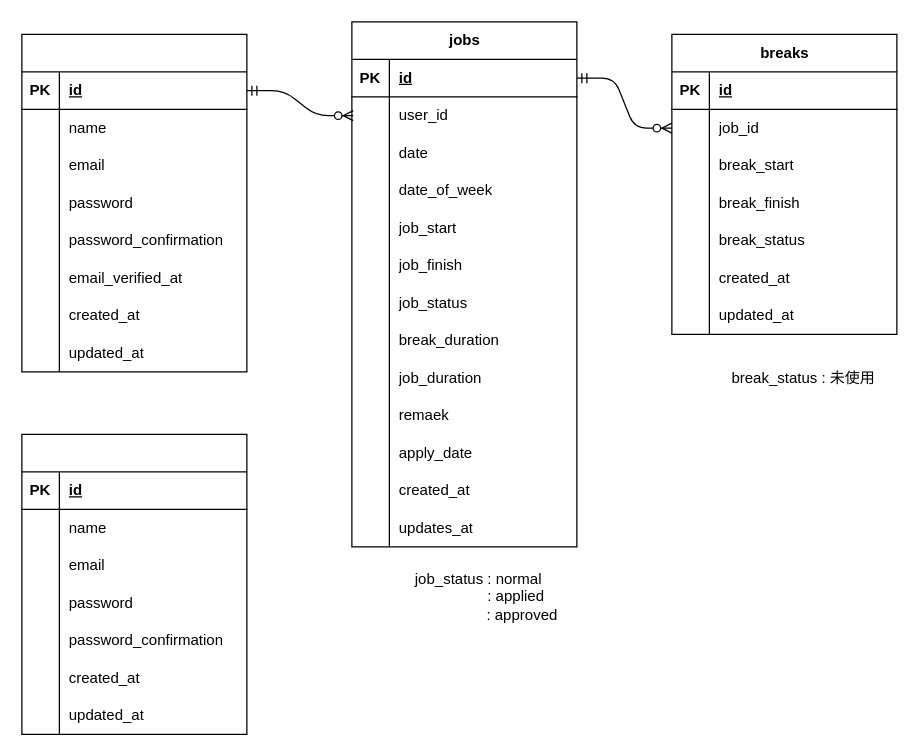
The diagram is 919 pixels wide and 756 high, and some of its shapes have lost their labels. The box of each missing label's shape, as (x1, y1, x2, y2) in pixels:
admins: (21, 433, 247, 734)
users: (21, 33, 247, 372)
